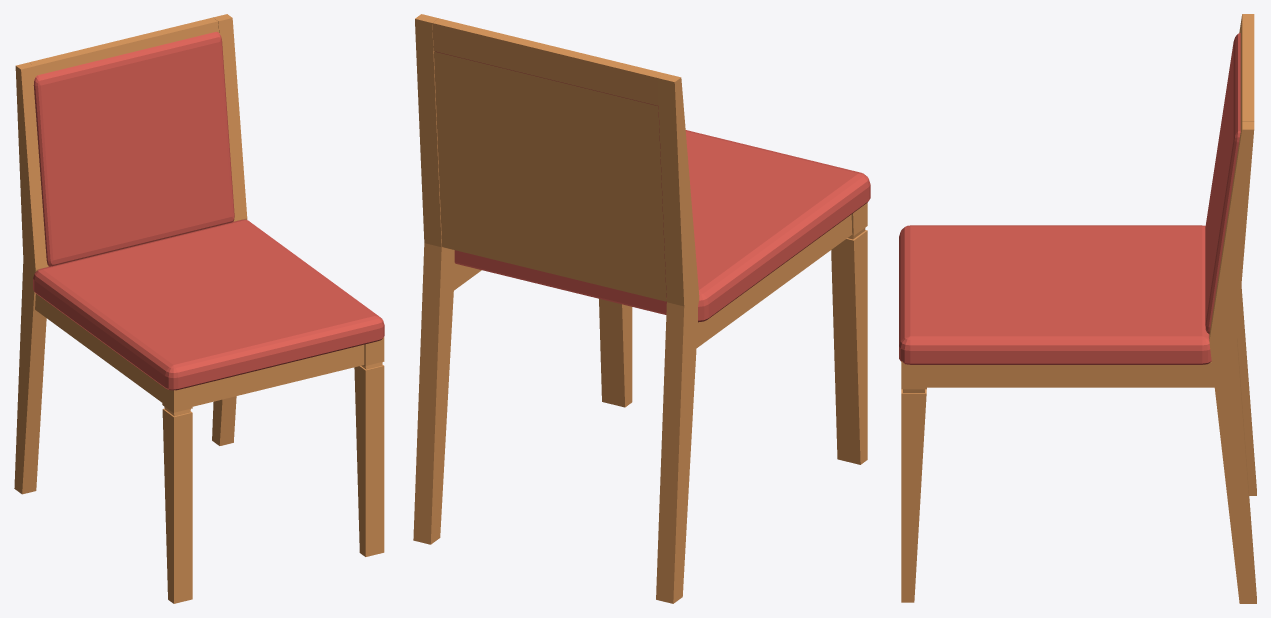
File: chair.fbx
3 views of the same model, side by side, from view 1: azimuth 30°, elevation 25°; view 2: azimuth 150°, elevation 25°; view 3: azimuth 270°, elevation 25° (orthographic). The views are drawn at different scales.
Parts seen in each view (by area): view 1: ChamferBo0, ChamferBox, Line01, Line02, Line04, Line03, Rectangle2, Rectangle3, Rectangle0; view 2: Plane01, ChamferBox, Line01, Line03, Line02, Rectangle3, Line04, Rectangle0; view 3: ChamferBox, Line03, Rectangle1, Line04, ChamferBo0, Line01, Rectangle3.
Part boxes in pixels (<box>): ChamferBo0: <box>33,31,234,266</box>; ChamferBox: <box>33,219,384,390</box>; Line01: <box>14,62,48,494</box>; Line02: <box>162,386,192,603</box>; Line04: <box>354,337,384,556</box>; Line03: <box>212,14,247,445</box>; Rectangle2: <box>192,344,364,406</box>; Rectangle3: <box>29,17,218,76</box>; Rectangle0: <box>35,294,162,402</box>; Plane01: <box>434,51,666,301</box>; ChamferBox: <box>454,130,870,322</box>; Line01: <box>656,73,699,603</box>; Line03: <box>413,14,455,544</box>; Line02: <box>831,203,867,464</box>; Rectangle3: <box>432,18,664,105</box>; Line04: <box>599,299,632,407</box>; Rectangle0: <box>696,214,852,347</box>; ChamferBox: <box>899,225,1211,364</box>; Line03: <box>1209,122,1256,603</box>; Rectangle1: <box>927,362,1214,387</box>; Line04: <box>901,361,928,602</box>; ChamferBo0: <box>1205,33,1240,333</box>; Line01: <box>1237,14,1256,495</box>; Rectangle3: <box>1240,21,1254,130</box>.
Bounding box in the file's own units: 463 × 860 × 588.
